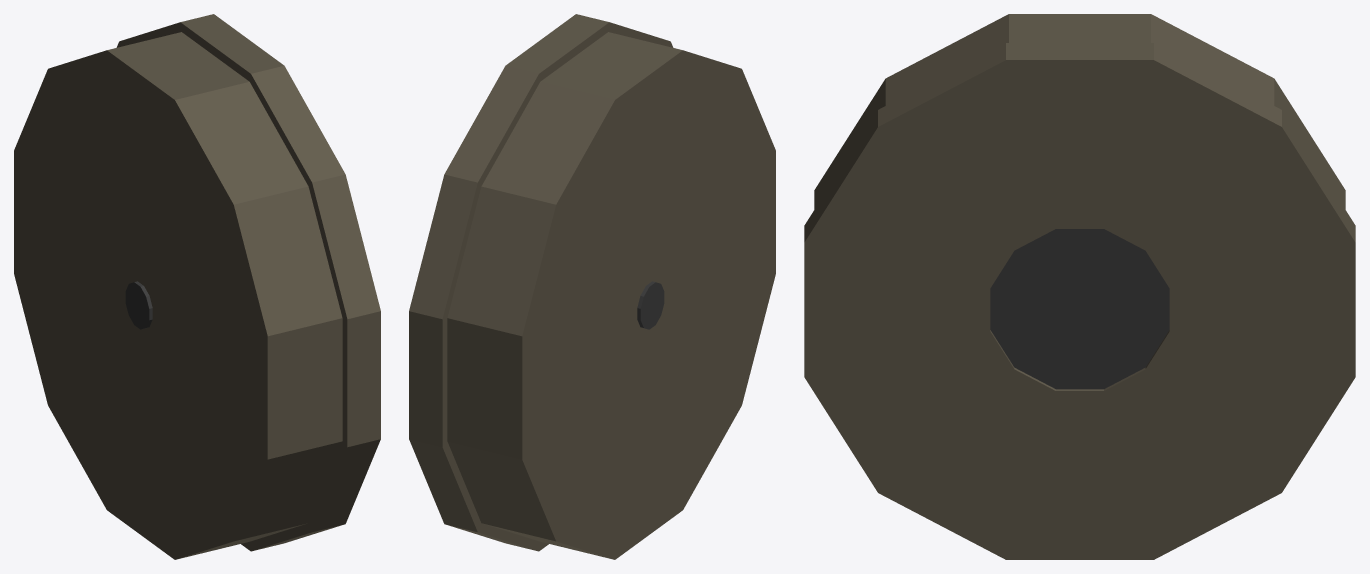
Rendered from LMG4_06_2.fbx.
3 views of the same model, side by side, from view 1: azimuth 30°, elevation 25°; view 2: azimuth 150°, elevation 25°; view 3: azimuth 270°, elevation 25° (orthographic). The views are drawn at different scales.
Visible parts, largest first — view 1: LMG4_06_2; view 2: LMG4_06_2; view 3: LMG4_06_2.
Part boxes in pixels (box(x1,y1,x2,y2)): LMG4_06_2: box(14, 14, 380, 559); LMG4_06_2: box(409, 14, 775, 559); LMG4_06_2: box(804, 14, 1355, 559).
Bounding box in the file's own units: 0.0473 × 0.193 × 0.193.
